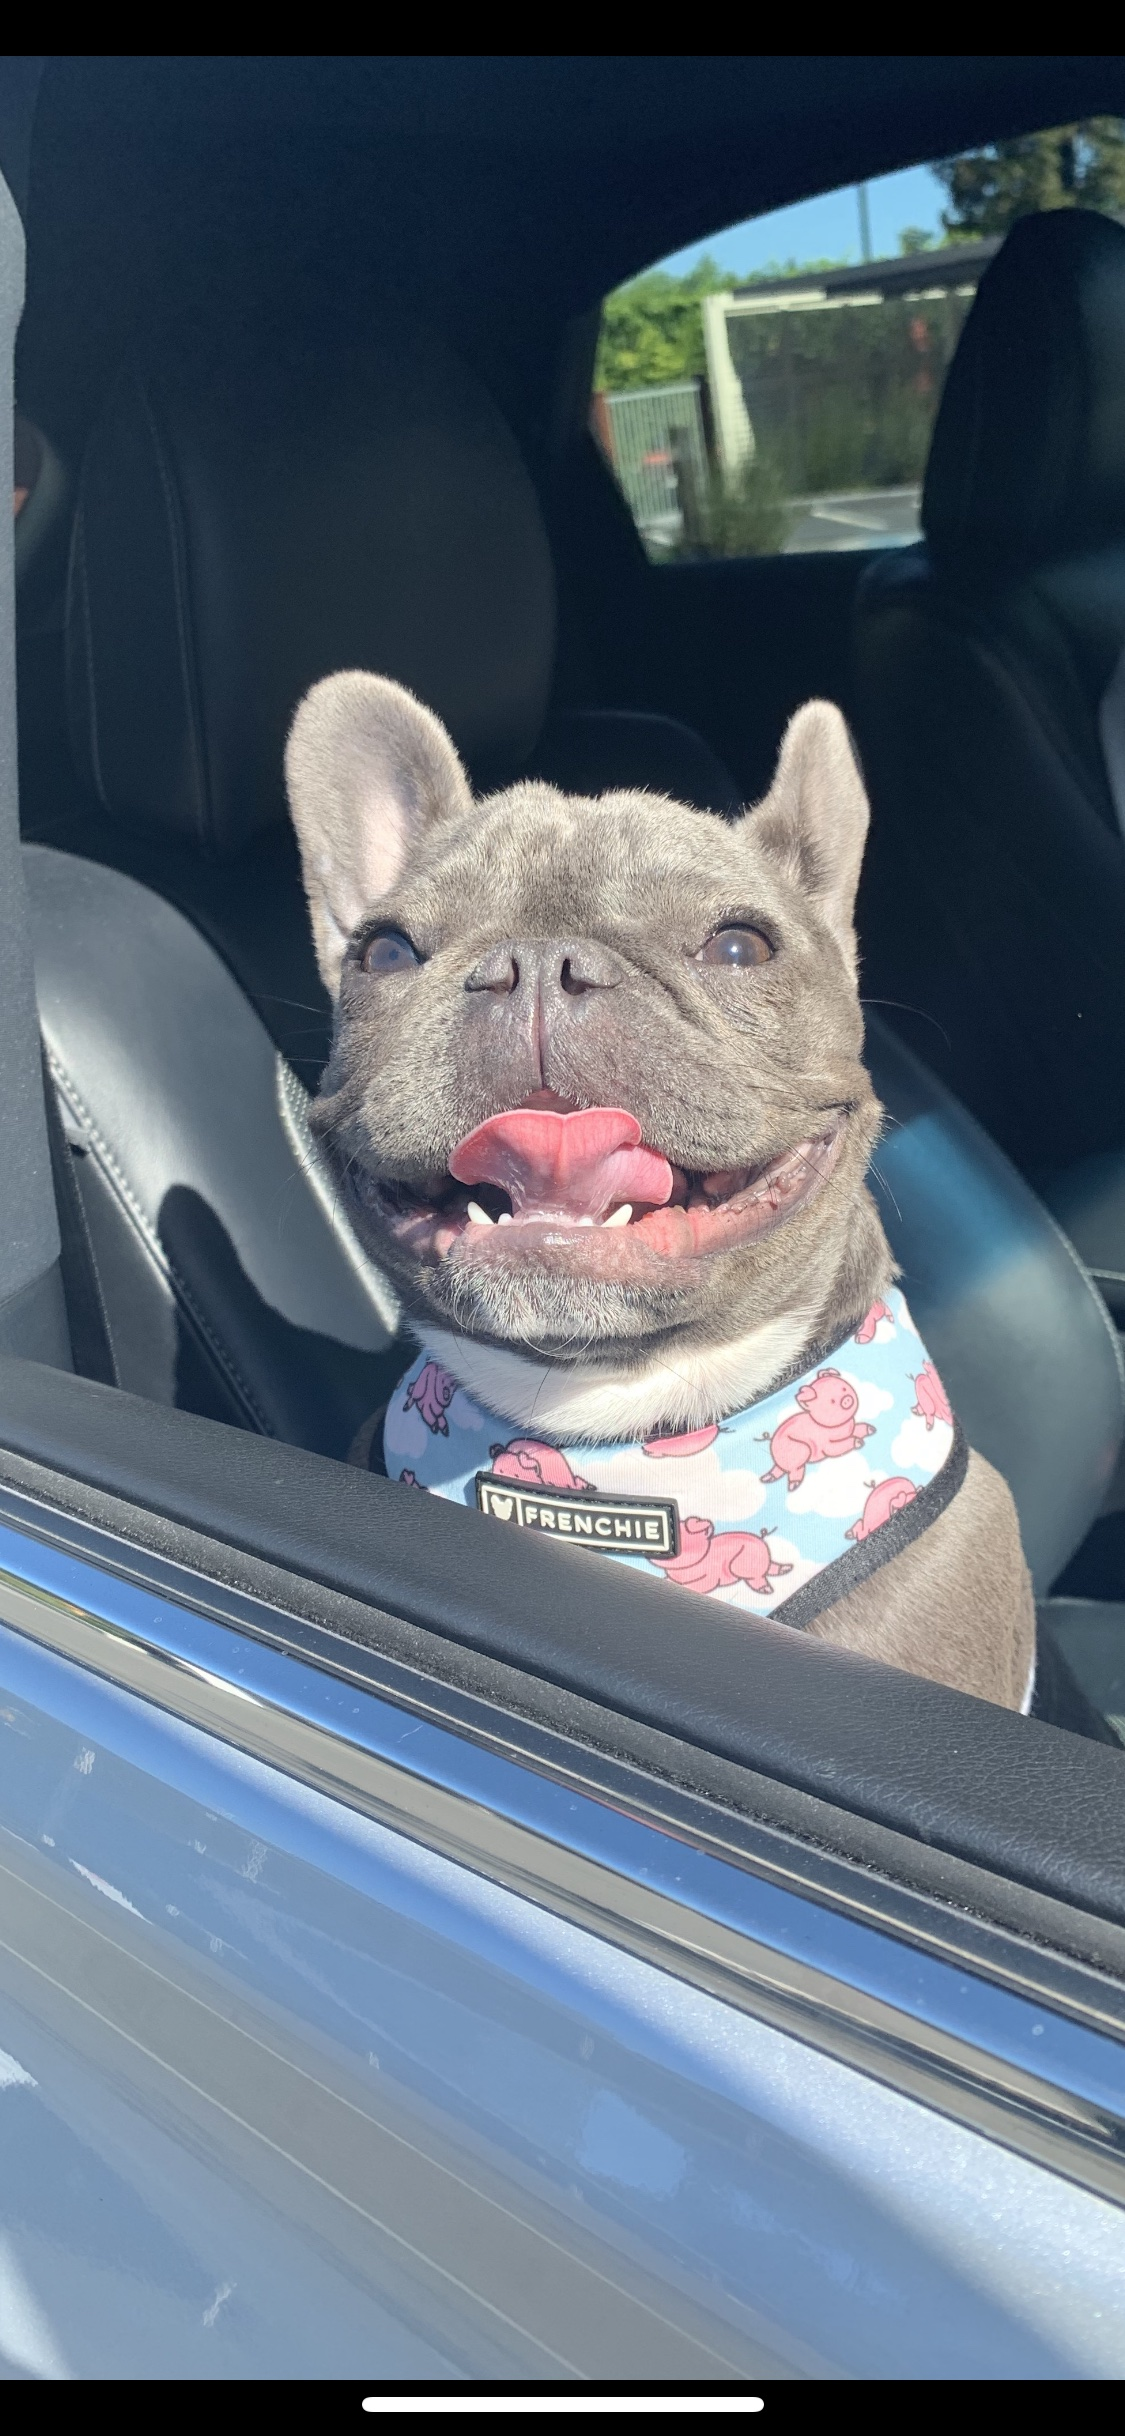lucy: (272, 660, 1063, 1721)
